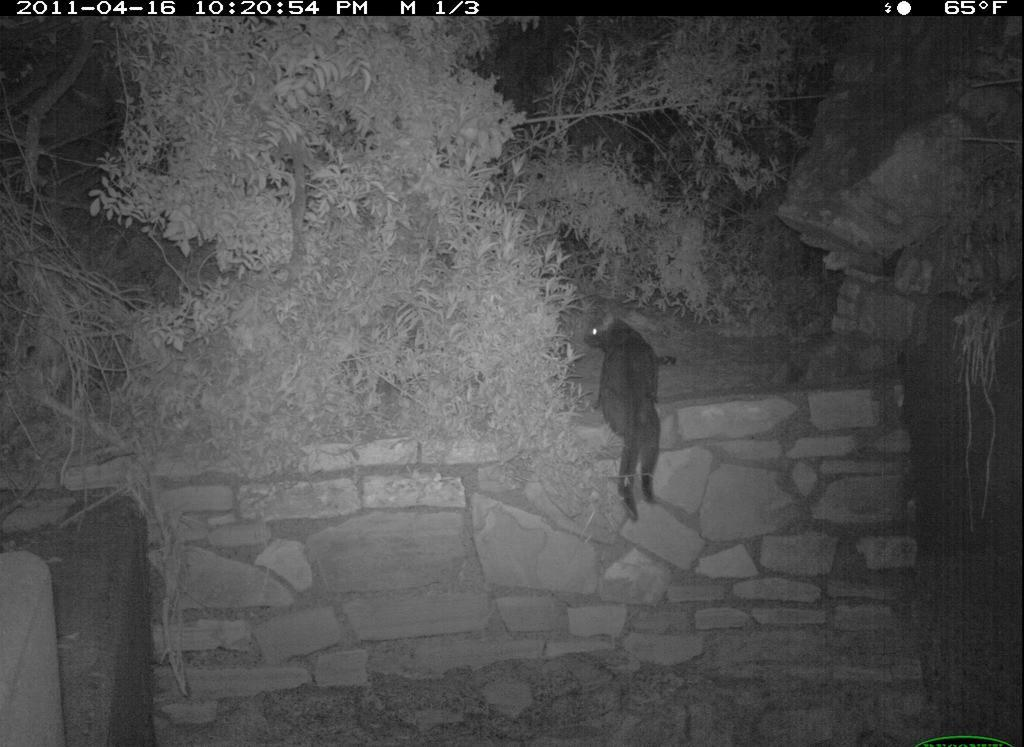cat: (579, 306, 679, 525)
